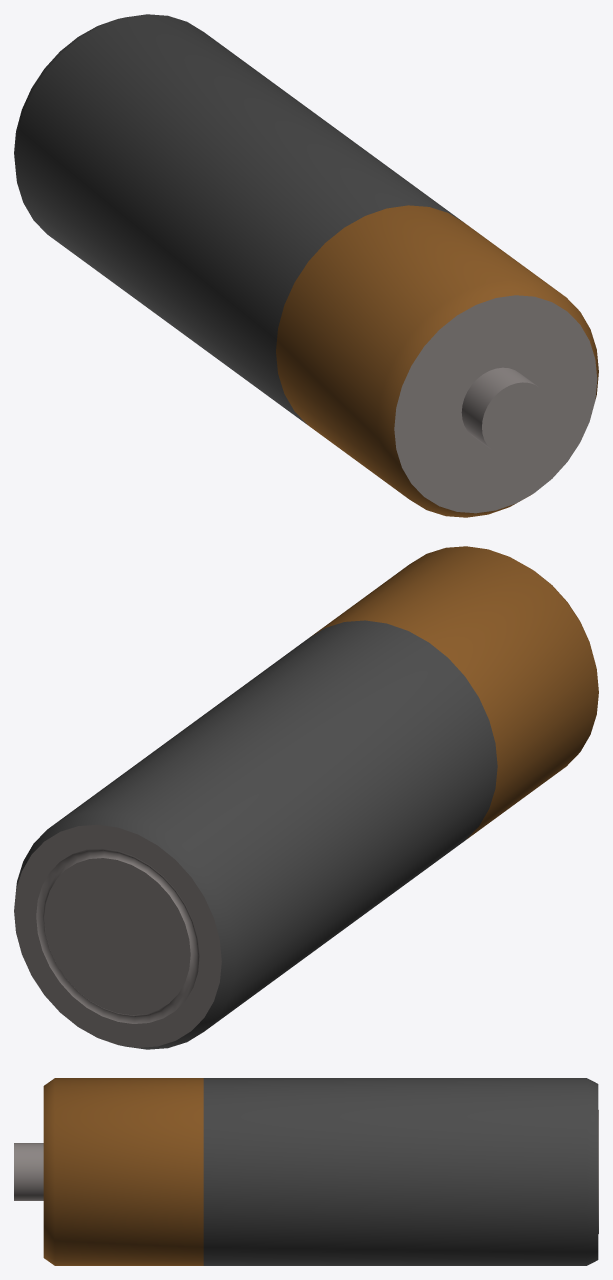
File: battery.fbx
3 renders of one model, top to bottom at view 1: azimuth 30°, elevation 25°; view 2: azimuth 150°, elevation 25°; view 3: azimuth 270°, elevation 25°, orthographic. The views are drawn at different scales.
Visible parts, largest first — view 1: Battery; view 2: Battery; view 3: Battery.
Boxes of the visible parts, x1,y1,x2,y2 form: Battery: (14, 14, 598, 517); Battery: (14, 546, 598, 1049); Battery: (14, 1078, 598, 1265).
Size of the model in its own units: 1.69 by 5.27 by 1.69.
